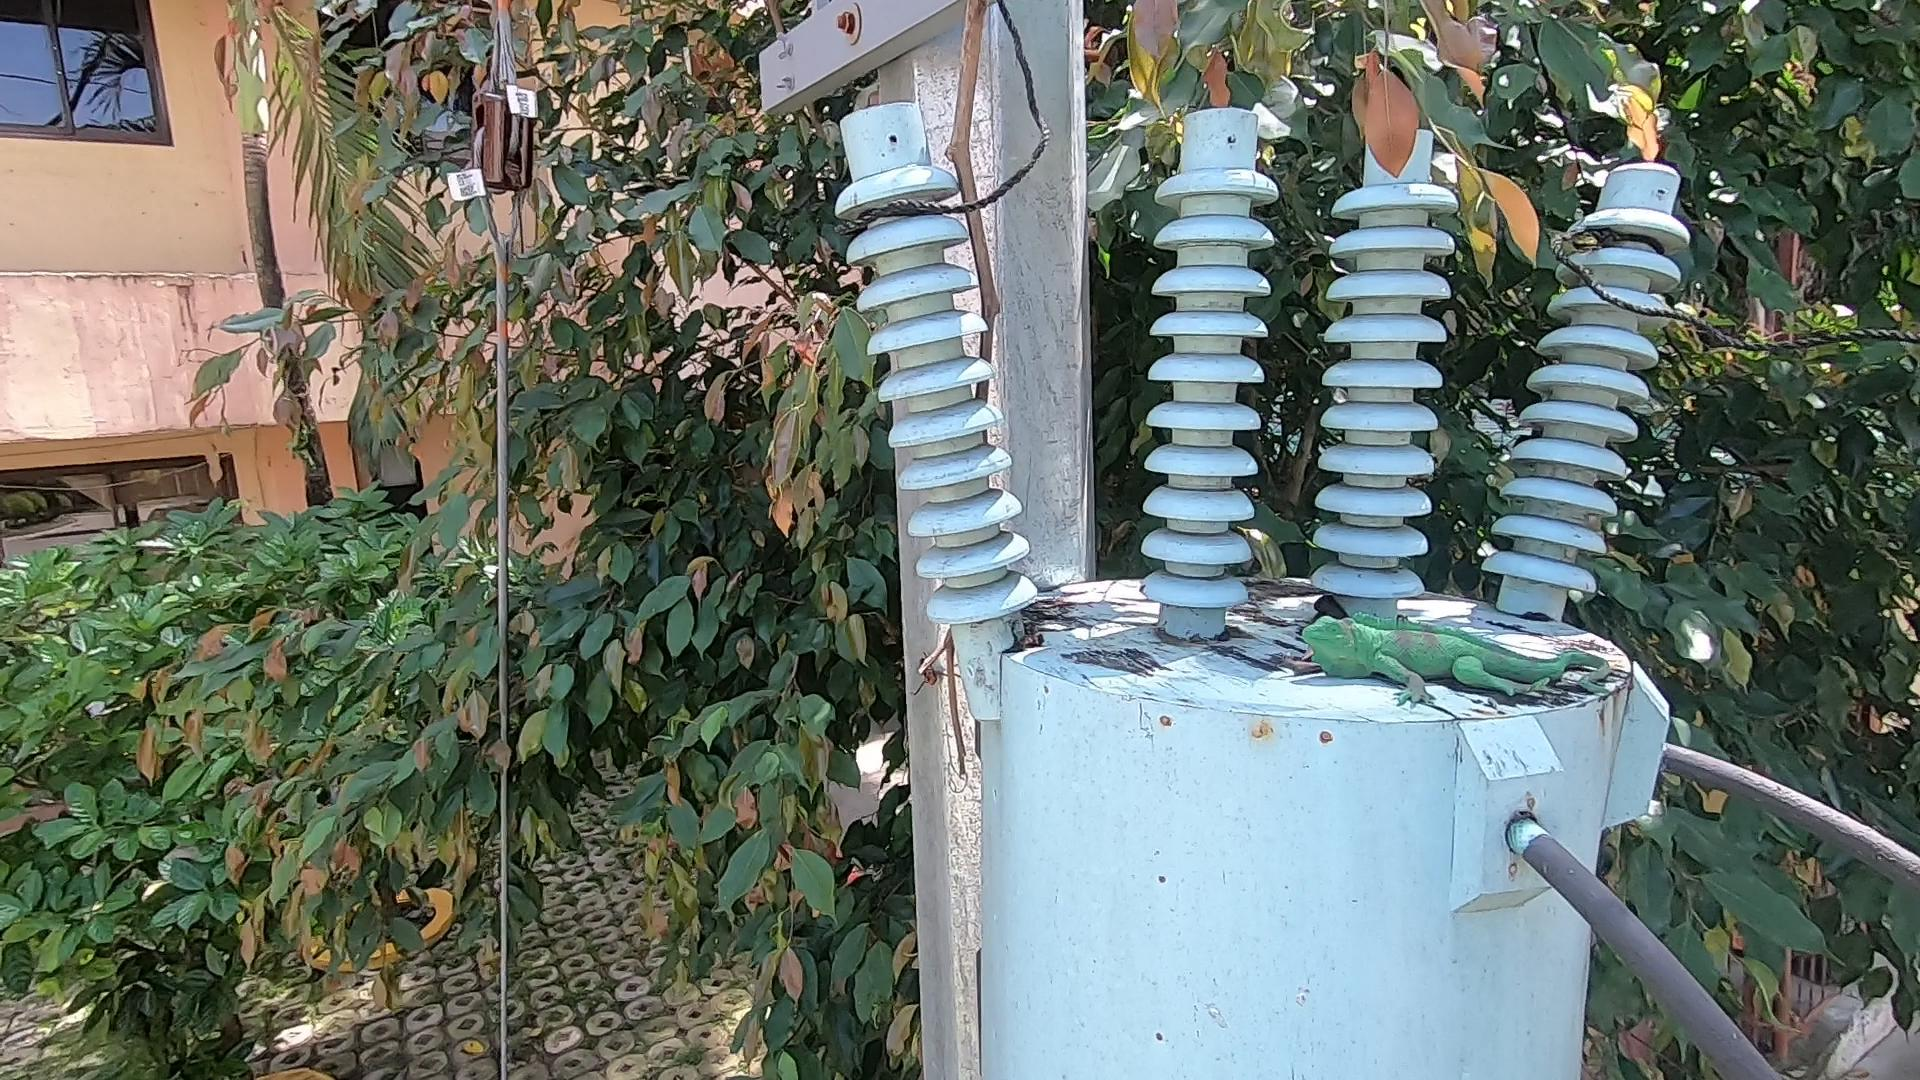branch with leaves: (1336, 32, 1606, 323)
leaf: (1004, 616, 1051, 659), (1305, 591, 1346, 637)
tree branch: (887, 1, 1031, 777)
